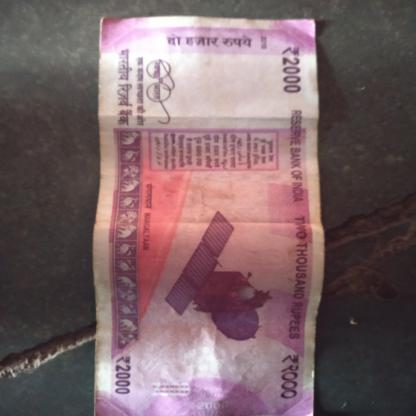New2000Back: (102, 14, 321, 415)
